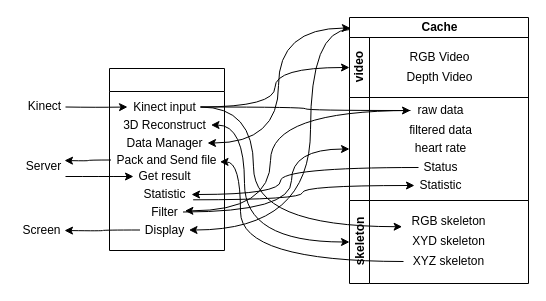
Some shapes in this 546 by 301 pixel diagram are drawn without their labels. Each missing label, with the box of its shape:
signal: (348, 96, 528, 200)
Thread: (108, 68, 224, 250)
